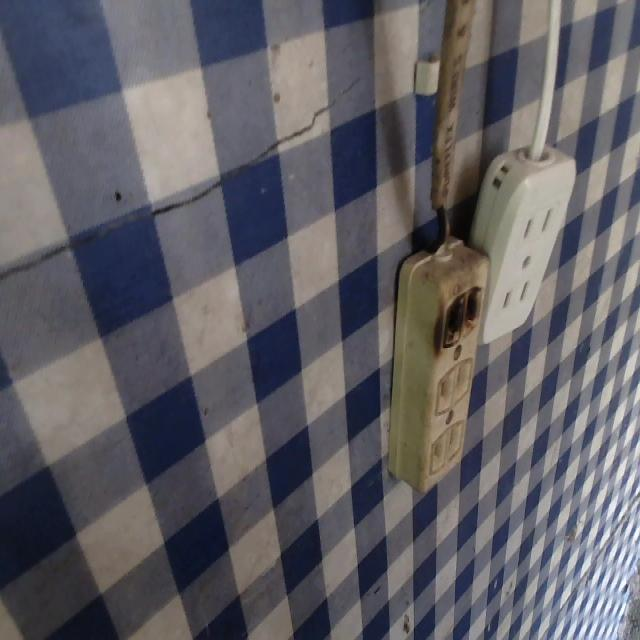-: (435, 283, 488, 340)
